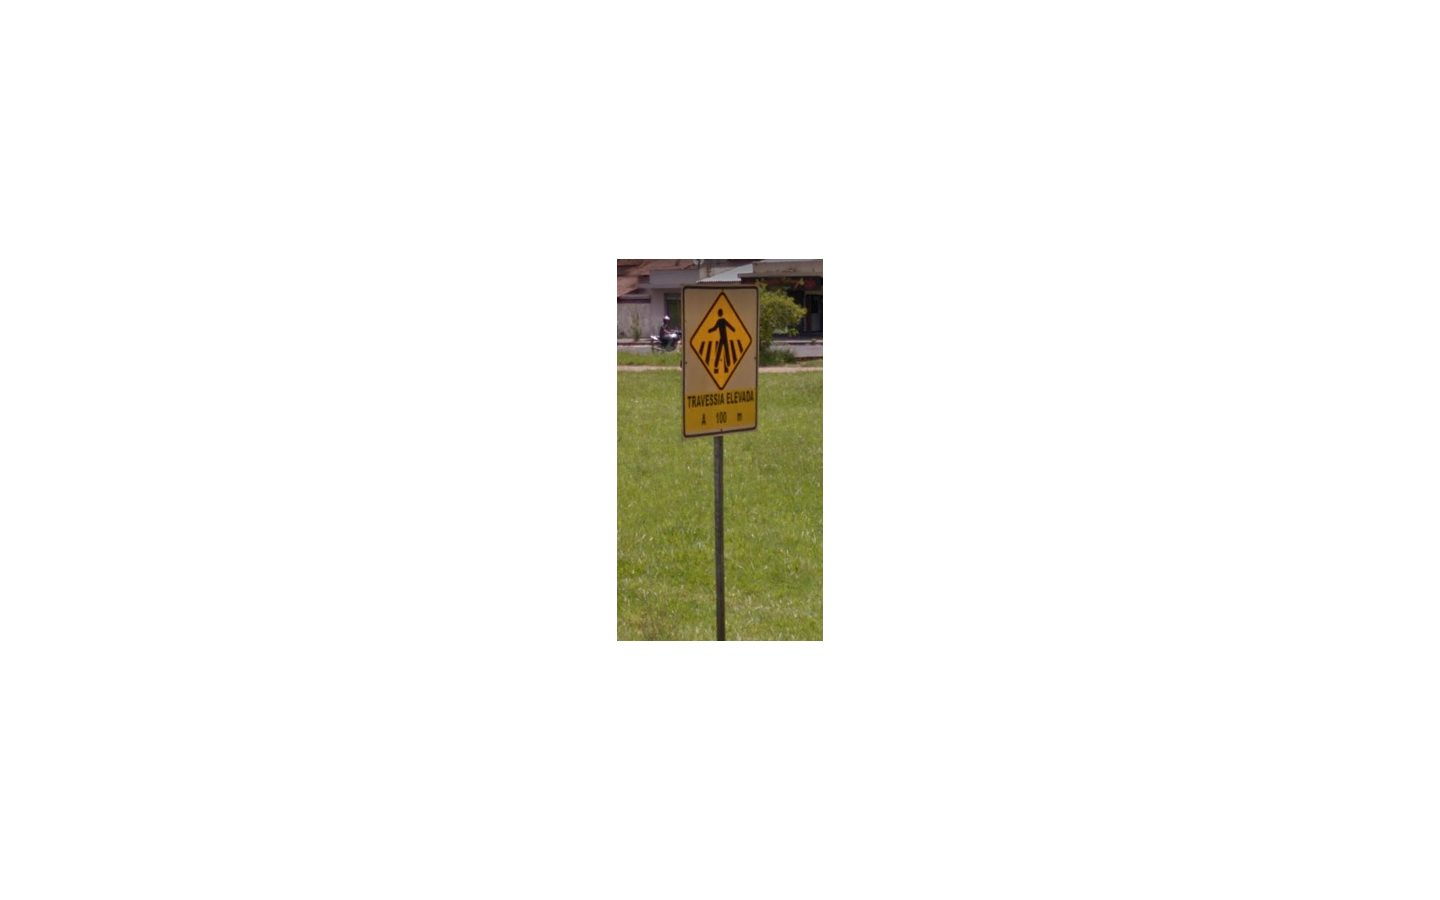t100m: (681, 285, 758, 439)
